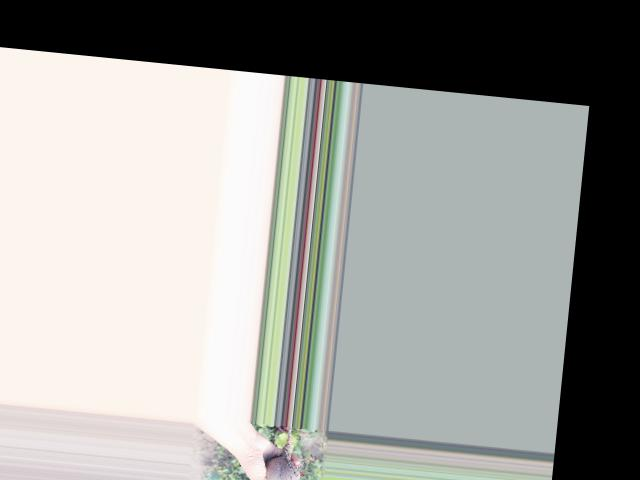beet: (248, 422, 319, 480)
